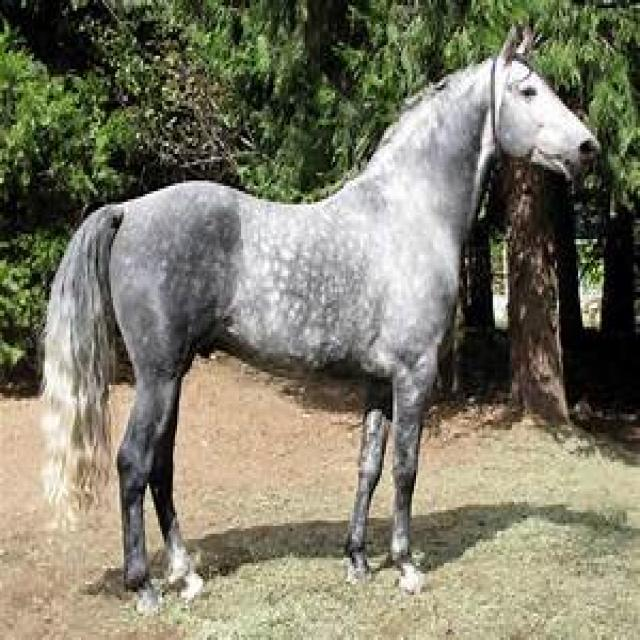horse: (38, 24, 602, 603)
